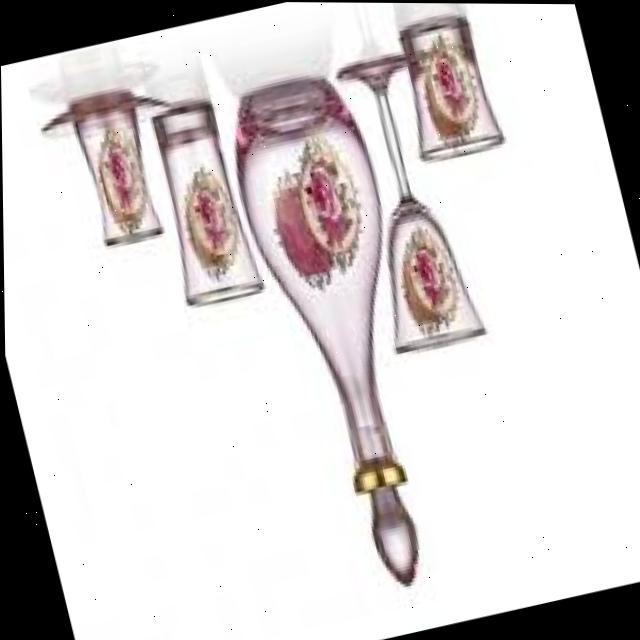Dry: (213, 68, 476, 606), (321, 47, 490, 357), (34, 79, 196, 257), (140, 94, 265, 313), (389, 10, 508, 166)
